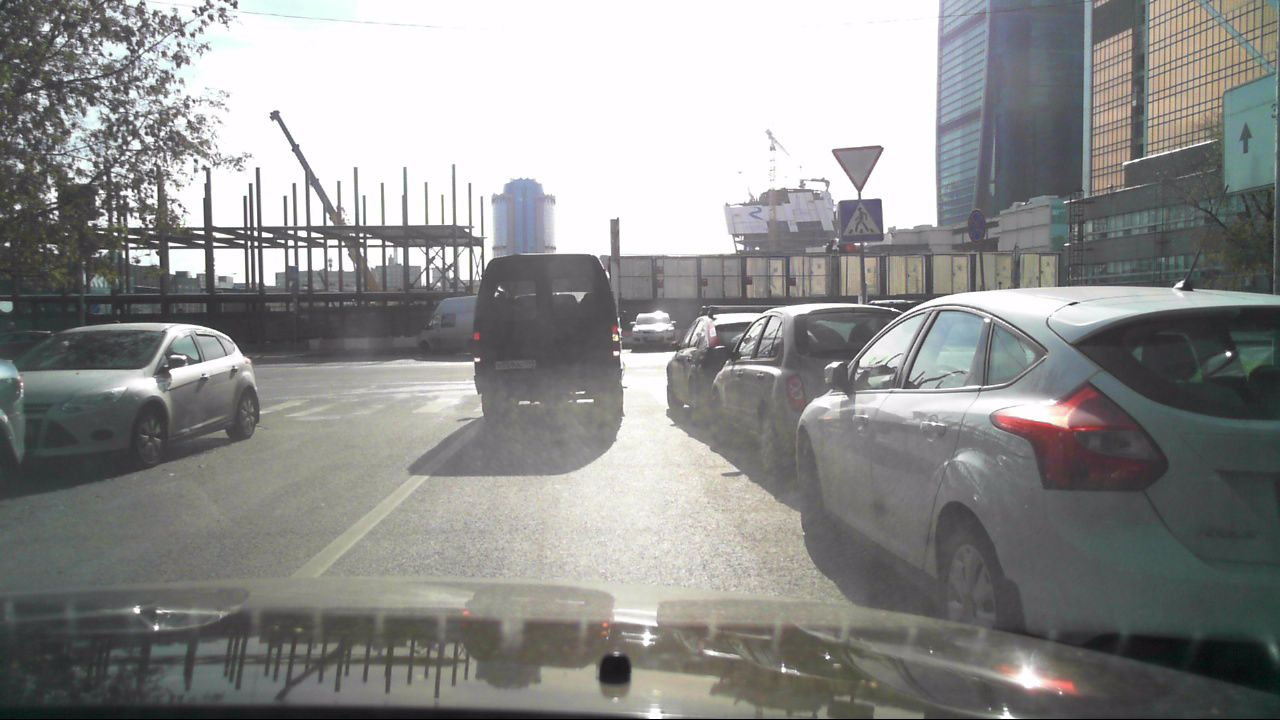No Parking: (966, 208, 989, 243)
